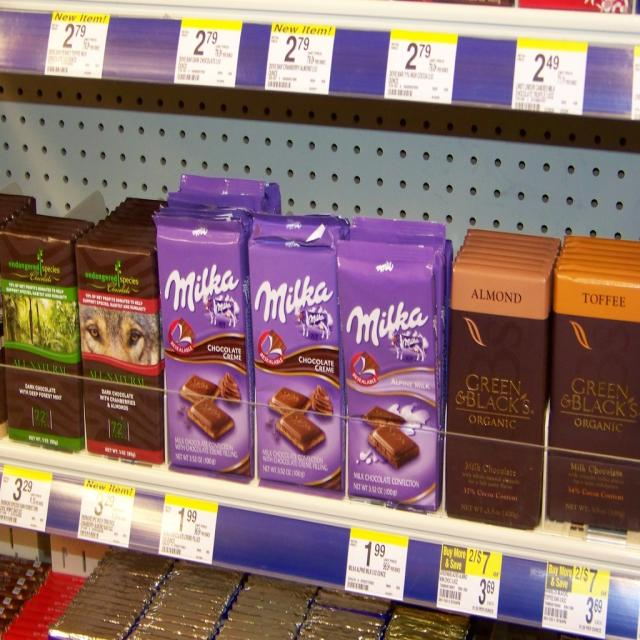milka: (342, 300, 432, 364), (161, 262, 242, 332), (250, 275, 336, 339)
